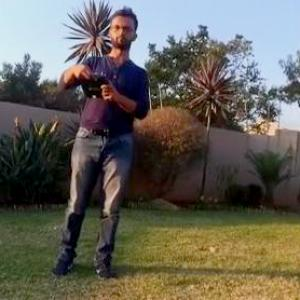follow: (44, 2, 151, 284)
